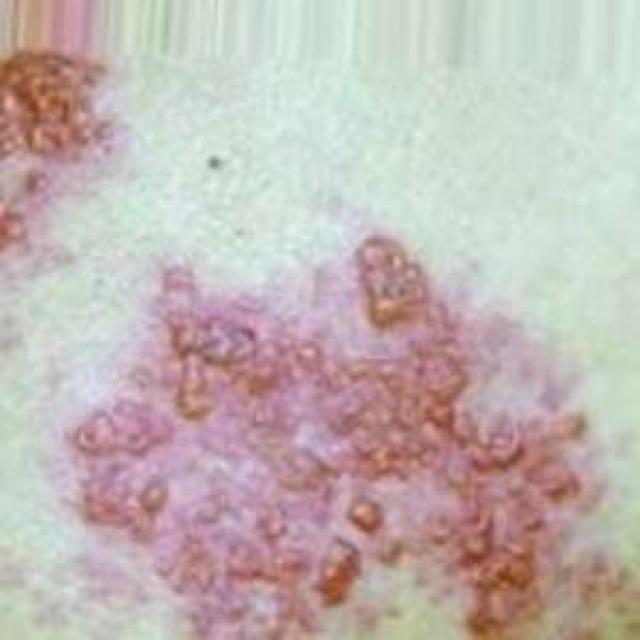Shingles: (69, 229, 594, 640), (0, 52, 111, 252)
